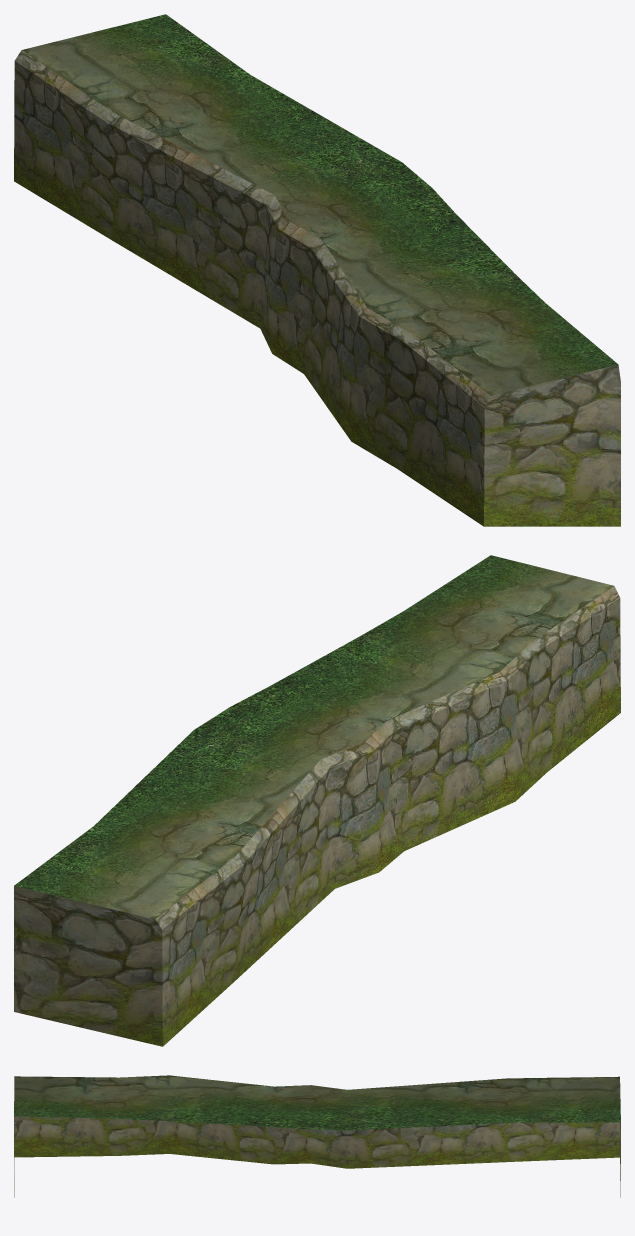
The model's file is Hangzhou_wj_020.FBX.
3 views of the same model, one above another, from view 1: azimuth 30°, elevation 25°; view 2: azimuth 150°, elevation 25°; view 3: azimuth 270°, elevation 25° (orthographic). The views are drawn at different scales.
Visible parts, largest first — view 1: Object007; view 2: Object007; view 3: Object007.
Part boxes in pixels (box(x1,y1,x2,y2)): Object007: box(14, 14, 620, 526); Object007: box(14, 555, 620, 1046); Object007: box(14, 1075, 620, 1197).
Size of the model in its own units: 16.36 by 13.32 by 70.
